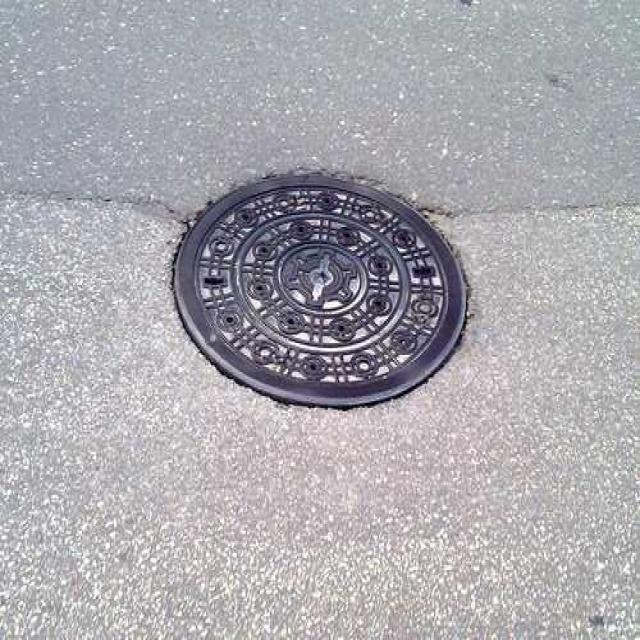manhole: (174, 173, 466, 406)
